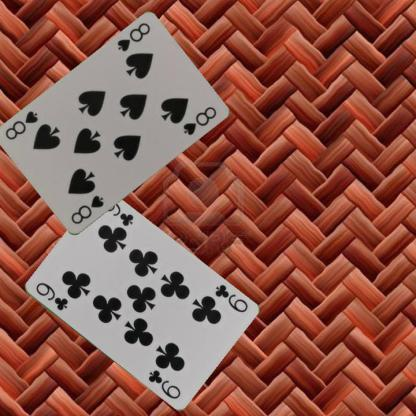8s: (114, 20, 152, 54), (68, 193, 105, 226)
9c: (32, 280, 70, 312), (211, 282, 249, 314)
